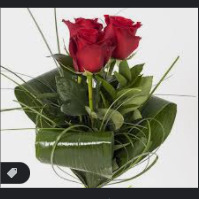RedRose: (70, 30, 107, 85), (104, 17, 142, 66), (64, 14, 100, 50)
